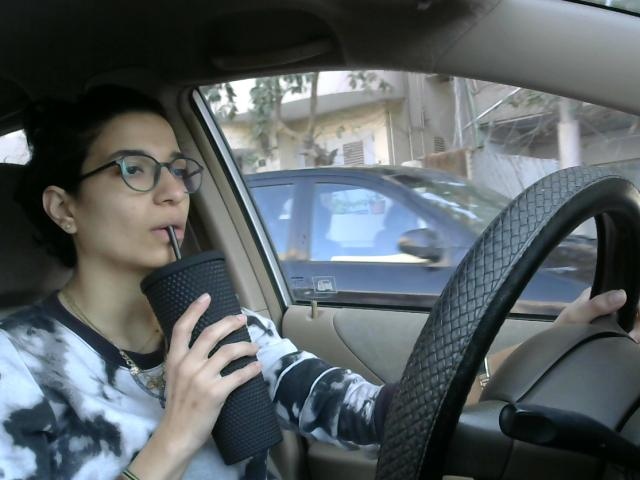Drinking: (41, 115, 284, 462)
